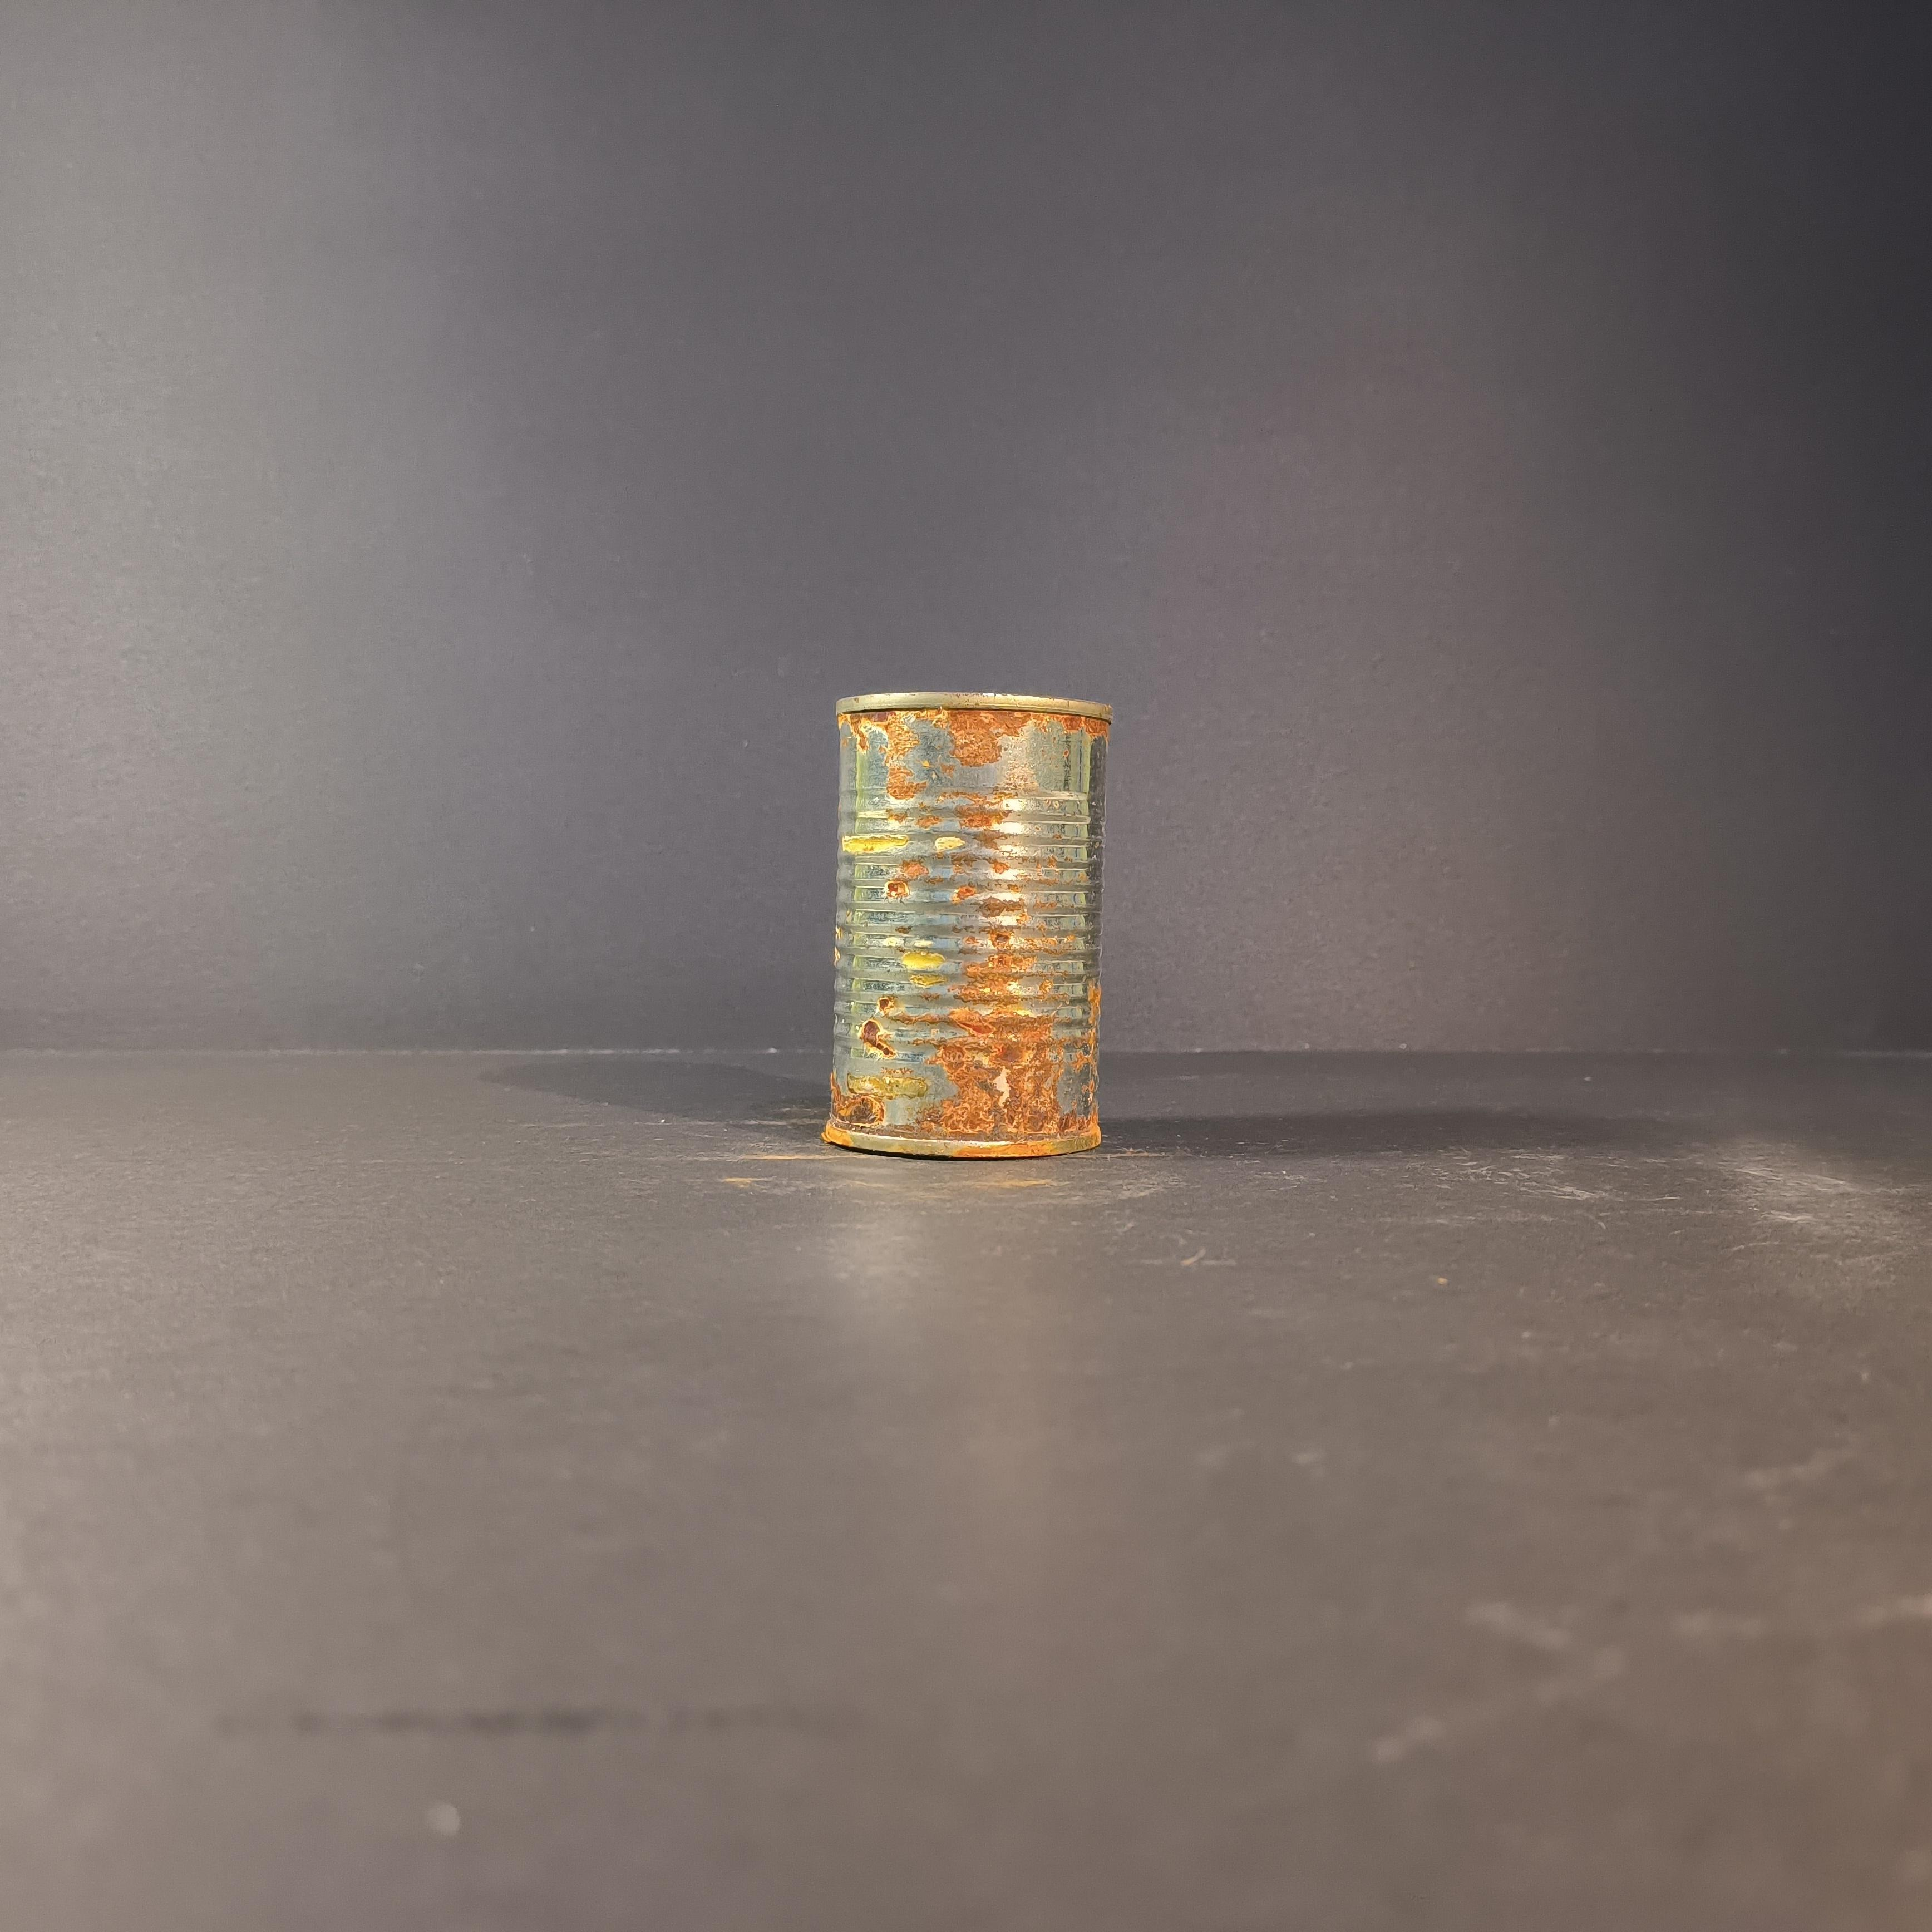Rusted: (816, 662, 1122, 1177)
